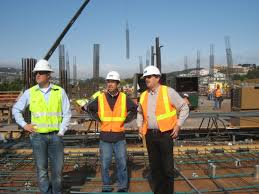epi: (135, 64, 189, 194), (15, 59, 65, 191), (88, 69, 135, 194), (214, 83, 224, 112)
